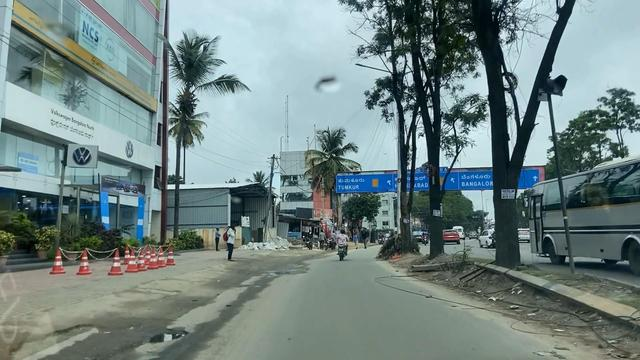RoadDamages: (136, 327, 216, 355)
